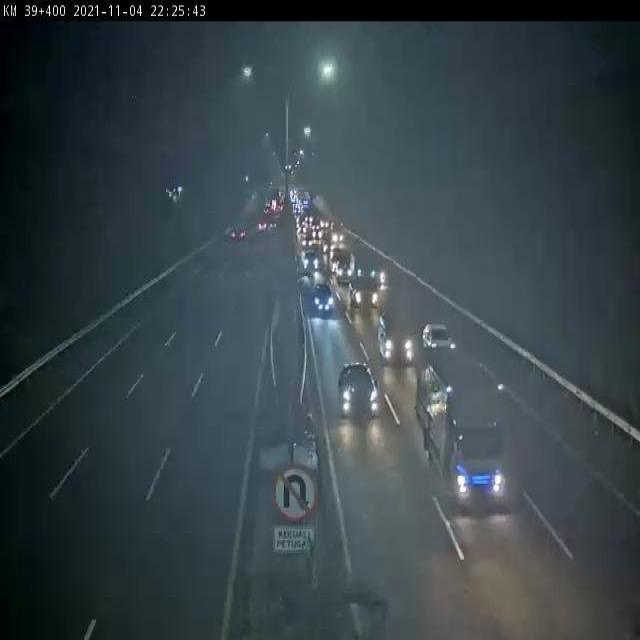car: (338, 363, 382, 421), (378, 303, 416, 367), (422, 324, 460, 363), (311, 280, 340, 320), (331, 254, 359, 286), (299, 247, 325, 281), (228, 224, 249, 252)
truck-m-: (418, 359, 513, 508), (348, 269, 383, 316)
